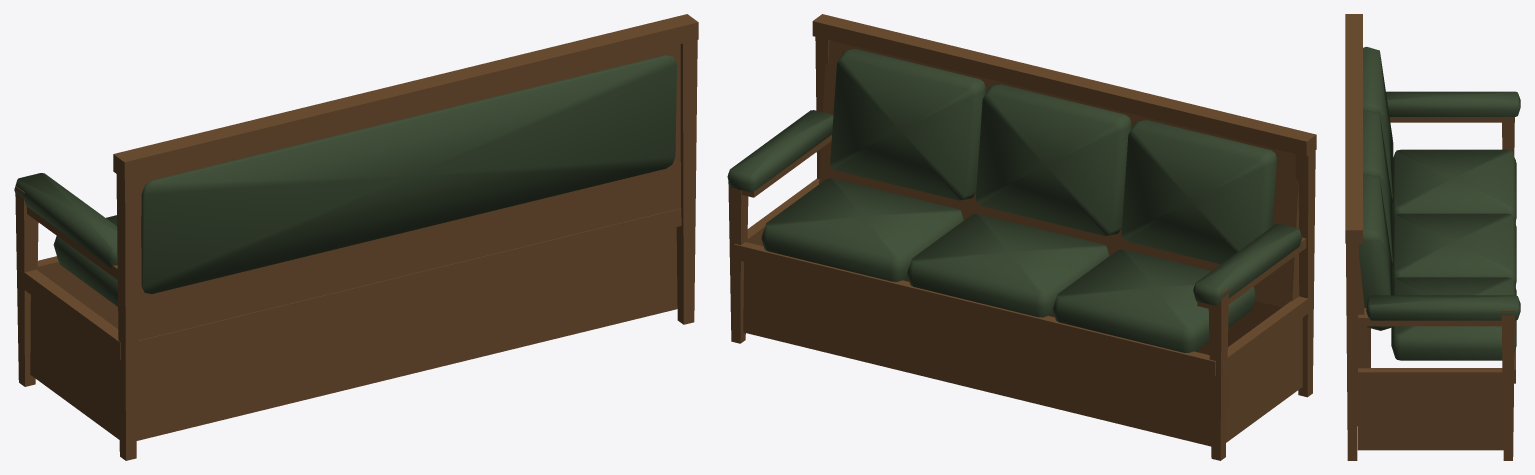
The model's file is parametric-settee-1st-pub.glb.
The picture shows the model from 3 angles, left to right: view 1: azimuth 30°, elevation 25°; view 2: azimuth 150°, elevation 25°; view 3: azimuth 270°, elevation 25°; orthographic projection. The views are drawn at different scales.
Visible parts, largest first — view 1: parametric-settee-1st-pub; view 2: parametric-settee-1st-pub; view 3: parametric-settee-1st-pub.
Boxes of the visible parts, x1,y1,x2,y2 form: parametric-settee-1st-pub: (14,14,698,460); parametric-settee-1st-pub: (727,14,1316,460); parametric-settee-1st-pub: (1345,14,1520,460).
Size of the model in its own units: 1.9 by 0.95 by 0.65.
